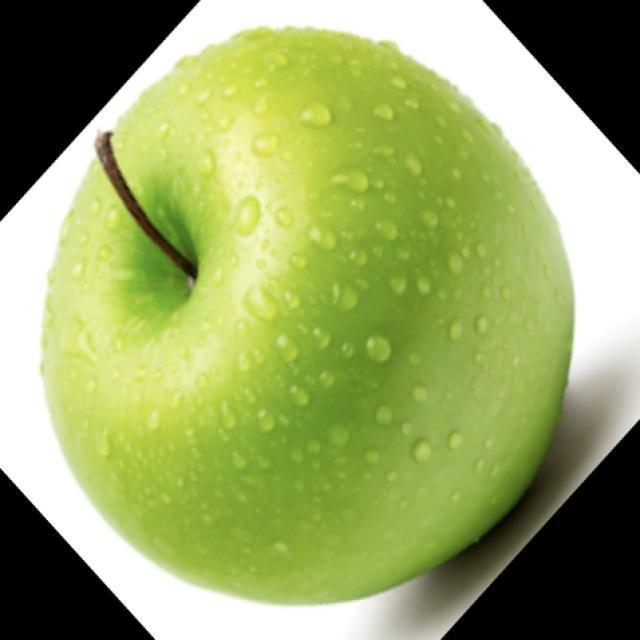Apple: (38, 24, 576, 606)
